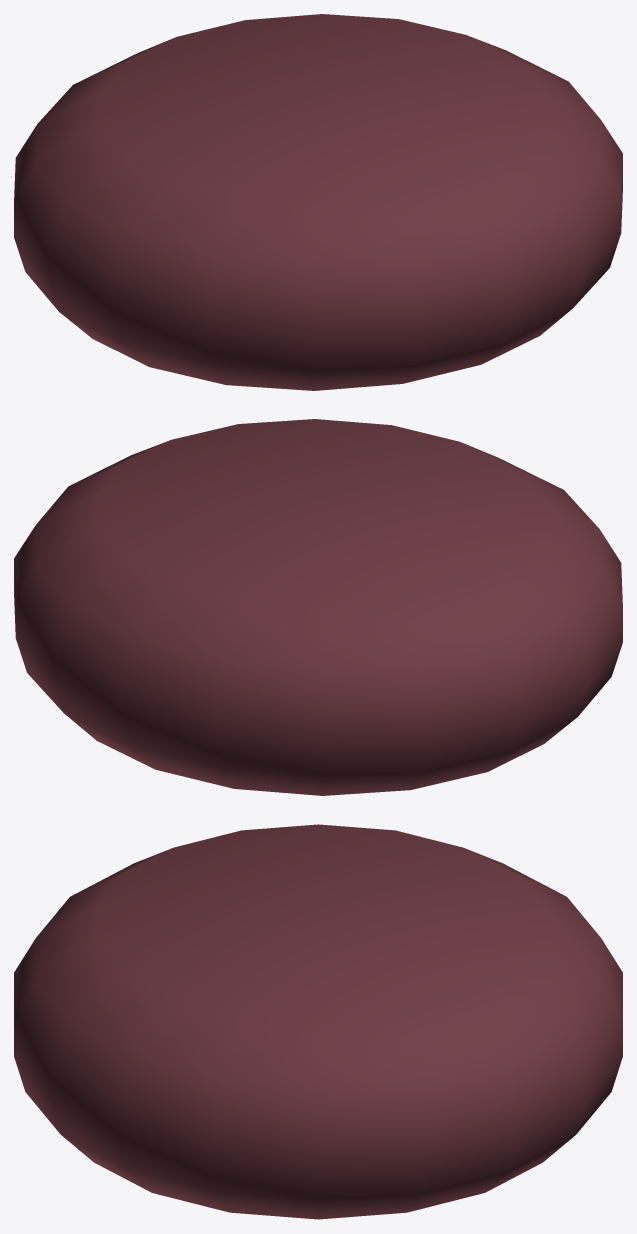
The picture shows the model from 3 angles, top to bottom: view 1: azimuth 30°, elevation 25°; view 2: azimuth 150°, elevation 25°; view 3: azimuth 270°, elevation 25°; orthographic projection. The views are drawn at different scales.
Visible parts, largest first — view 1: BG; view 2: BG; view 3: BG.
Boxes of the visible parts, x1=… form: BG: x1=14, y1=14, x2=622, y2=390; BG: x1=14, y1=419, x2=622, y2=795; BG: x1=14, y1=824, x2=622, y2=1219.
Size of the model in its own units: 1637 by 514 by 1551.
